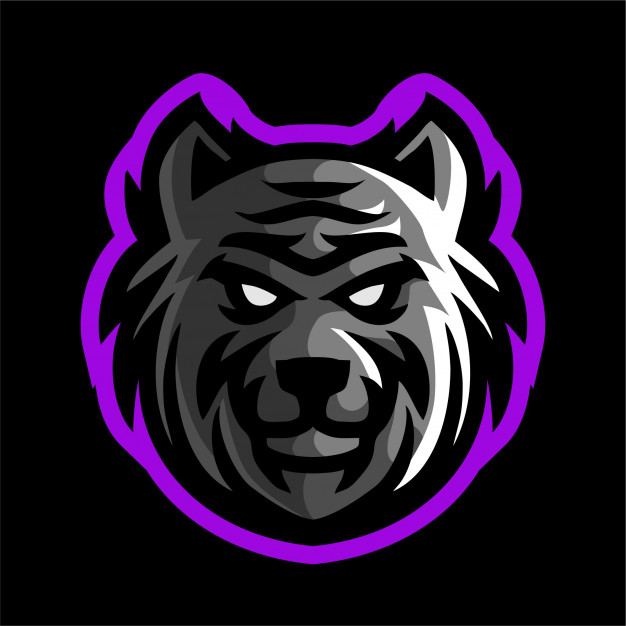Lobo: (77, 50, 547, 574)
